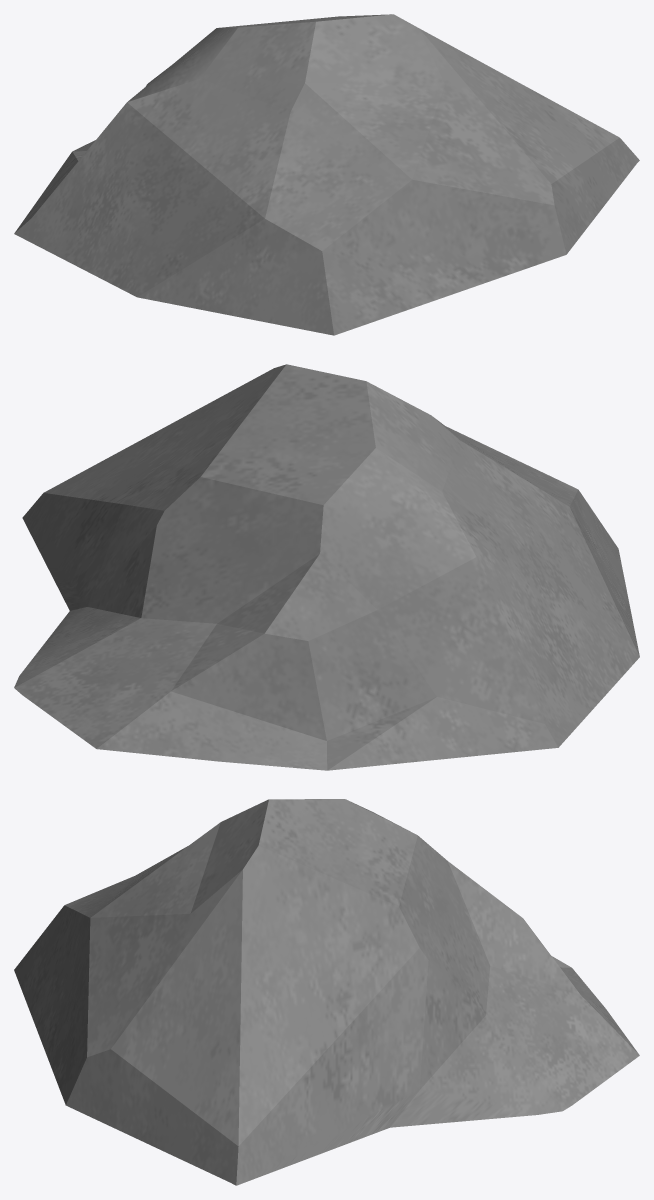
Rendered from Mountain_1.glb.
3 views of the same model, one above another, from view 1: azimuth 30°, elevation 25°; view 2: azimuth 150°, elevation 25°; view 3: azimuth 270°, elevation 25° (orthographic). The views are drawn at different scales.
Parts seen in each view (by area): view 1: Rock.008_Rock.013; view 2: Rock.008_Rock.013; view 3: Rock.008_Rock.013.
Boxes of the visible parts, left/top/right/bottom form: Rock.008_Rock.013: left=14, top=14, right=639, bottom=335; Rock.008_Rock.013: left=14, top=364, right=639, bottom=770; Rock.008_Rock.013: left=14, top=799, right=639, bottom=1185.
Size of the model in its own units: 86.07 by 31.23 by 78.78.
1 material, 1 textured.
